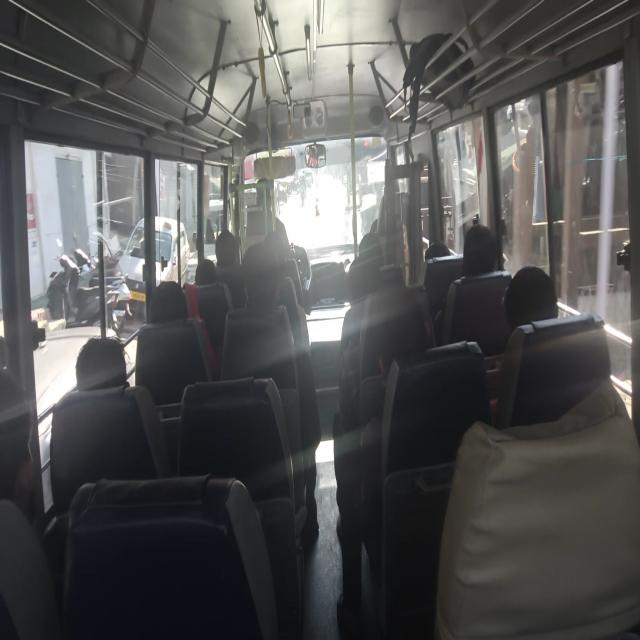person: (240, 242, 321, 541), (49, 336, 167, 512), (484, 265, 559, 411), (442, 223, 500, 344), (502, 264, 559, 331), (75, 336, 129, 391), (214, 228, 244, 309), (460, 223, 498, 277), (214, 228, 238, 268), (194, 258, 217, 286)
